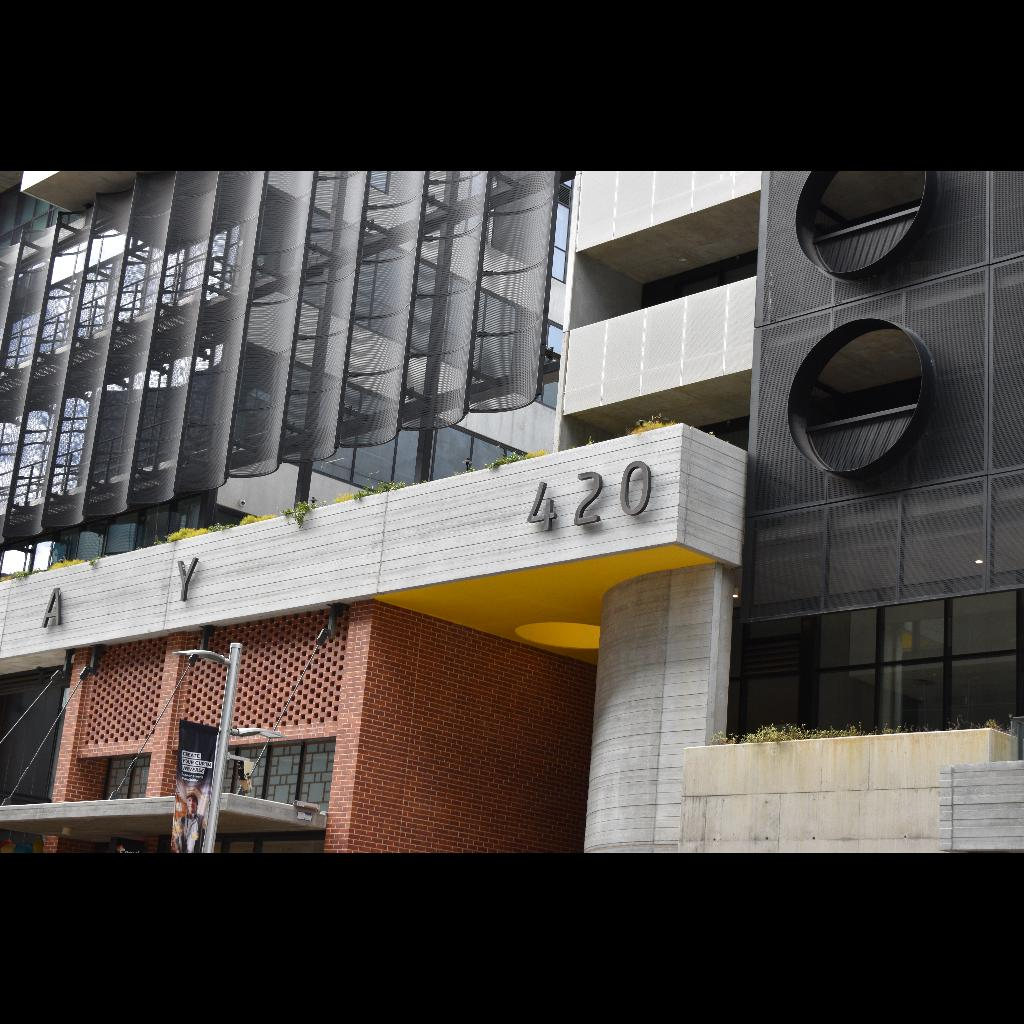BuildingCodes: (523, 459, 655, 533)
